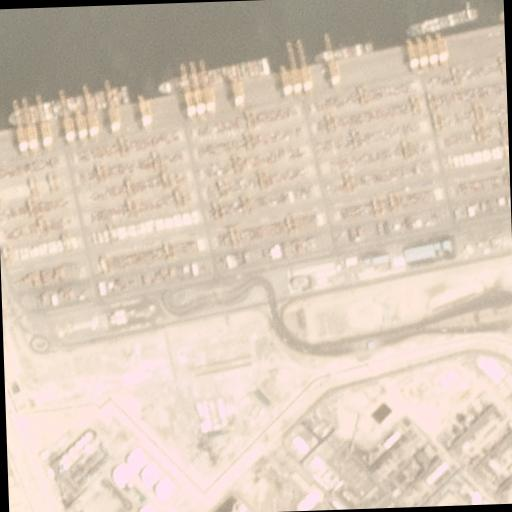ship: (6, 85, 128, 128), (158, 58, 270, 98), (404, 8, 476, 35), (311, 41, 373, 63), (0, 115, 23, 149)
